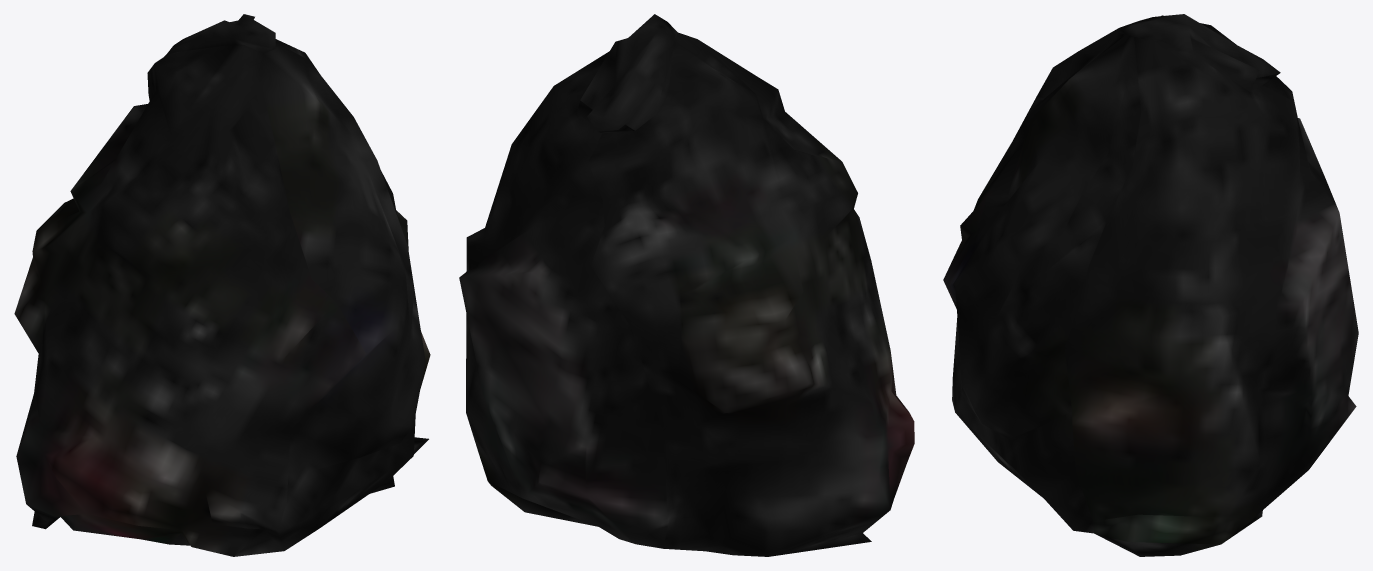
Rendered from trashbag_lod2.glb.
3 views of the same model, side by side, from view 1: azimuth 30°, elevation 25°; view 2: azimuth 150°, elevation 25°; view 3: azimuth 270°, elevation 25° (orthographic). The views are drawn at different scales.
Parts seen in each view (by area): view 1: trashbag; view 2: trashbag; view 3: trashbag.
Boxes of the visible parts, box(x1,y1,x2,y2) form: trashbag: box(14, 14, 430, 556); trashbag: box(459, 14, 914, 556); trashbag: box(943, 14, 1358, 556).
Bounding box in the file's own units: 0.5187 × 0.5684 × 0.4629.
1 material, 1 textured.
